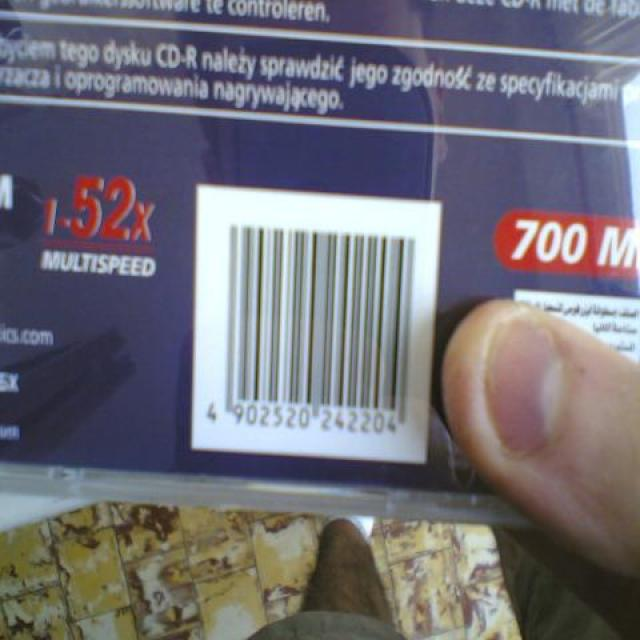Barcode: (188, 177, 443, 462)
